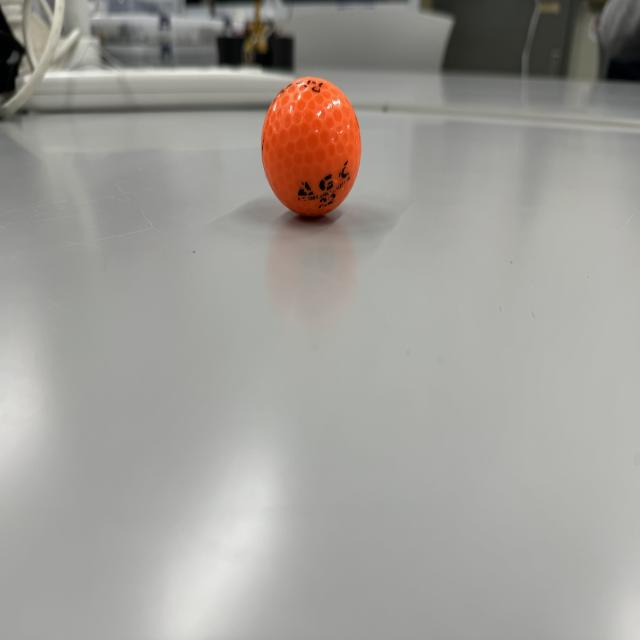ball: (257, 74, 368, 223)
